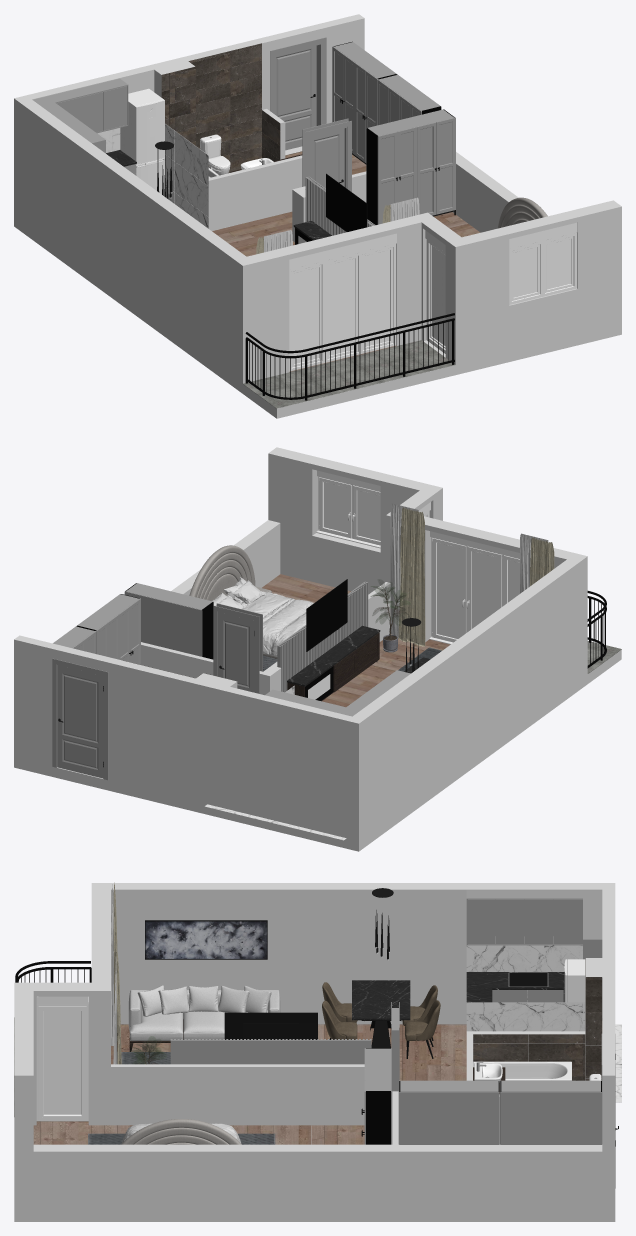
Rendered from stan.glb.
3 views of the same model, one above another, from view 1: azimuth 30°, elevation 25°; view 2: azimuth 150°, elevation 25°; view 3: azimuth 270°, elevation 25° (orthographic). The views are drawn at different scales.
Visible parts, largest first — view 1: Cube.010; view 2: Cube.010; view 3: Cube.010.
Part boxes in pixels (x1,y1,x2,y2): Cube.010: [14, 14, 621, 418]; Cube.010: [14, 447, 621, 851]; Cube.010: [14, 882, 621, 1221].
Size of the model in its own units: 7.05 by 2.8 by 9.41.
44 materials, 25 textured.
